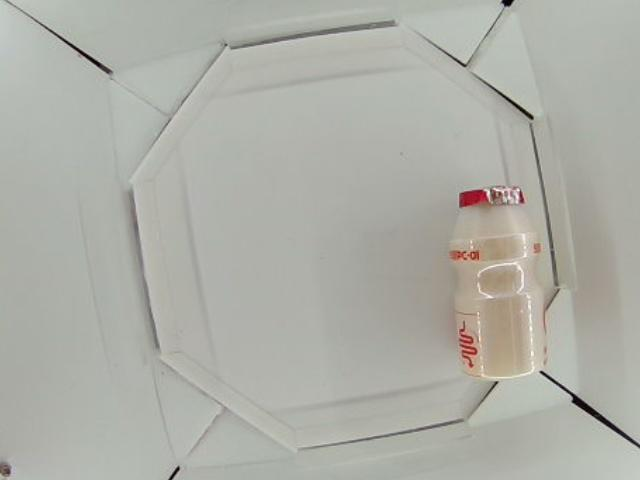Bottle: (448, 187, 548, 378)
